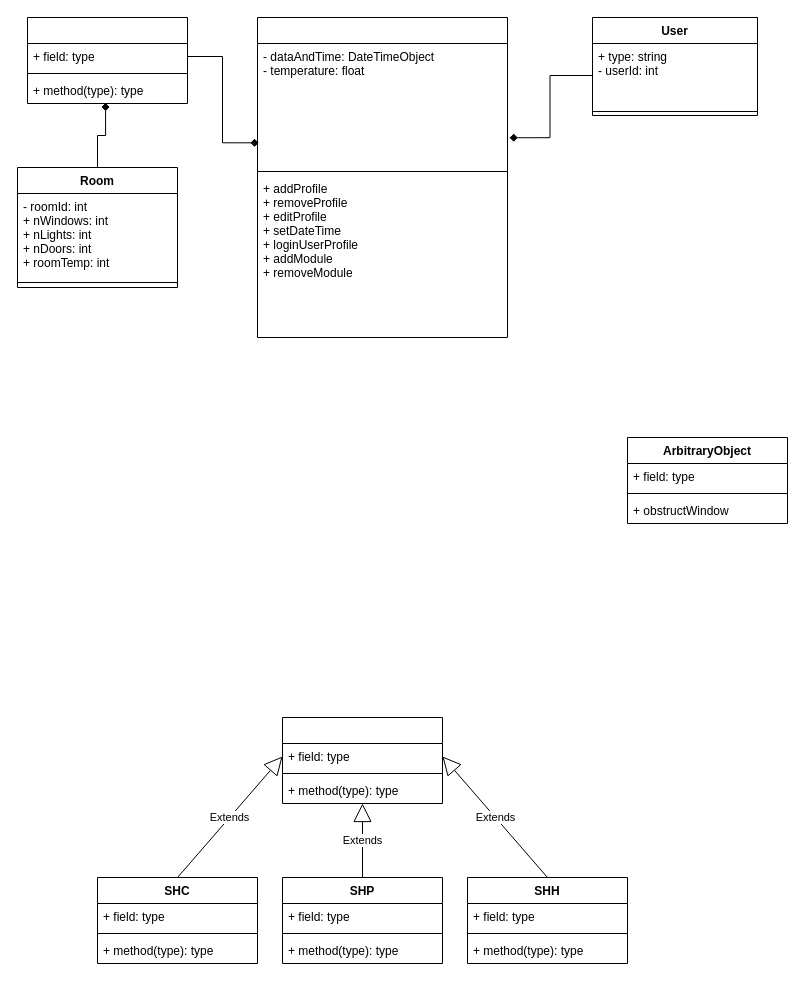
Image size: 805x984. Some labels were removed from this diagram. The shapes that lost their labels are listed below. From the top down, each one's box as (x1, y1, x2, y2) in pixels, then its label:
(26, 16, 188, 104): HouseLayout
(256, 16, 508, 338): Simulation
(282, 716, 442, 804): Module
